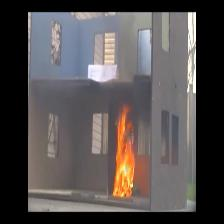fire: (116, 119, 134, 198)
